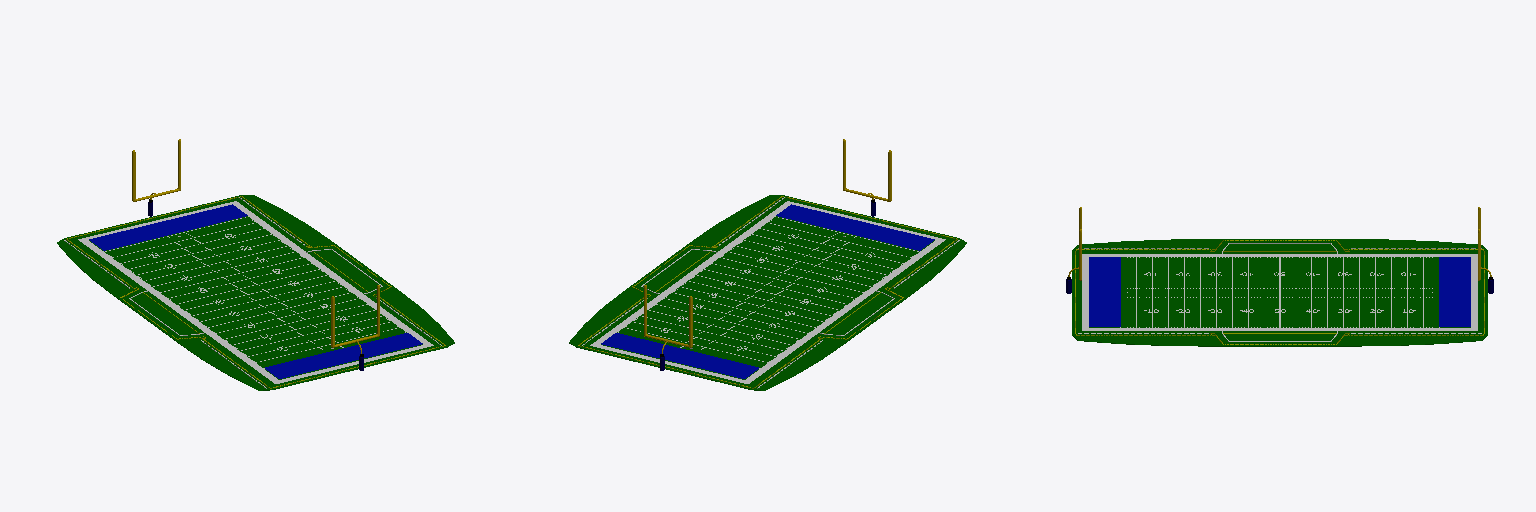
The model's file is sprblfld.obj.
The picture shows the model from 3 angles: view 1: azimuth 30°, elevation 25°; view 2: azimuth 150°, elevation 25°; view 3: azimuth 270°, elevation 25°; orthographic projection.
Visible parts, largest first — view 1: Plane.025_Plane.020, Plane.021_Plane.017, Plane.022_Plane.018, Plane.034_Plane.030, Cube.001; view 2: Plane.025_Plane.020, Plane.021_Plane.017, Plane.022_Plane.018, Plane.034_Plane.030, Cube.001; view 3: Plane.025_Plane.020, Plane.021_Plane.017, Plane.022_Plane.018, Plane.034_Plane.030.
Part boxes in pixels (left/top/right/bottom): Plane.025_Plane.020: left=57, top=195, right=454, bottom=390; Plane.021_Plane.017: left=89, top=204, right=422, bottom=378; Plane.022_Plane.018: left=78, top=201, right=433, bottom=383; Plane.034_Plane.030: left=105, top=216, right=400, bottom=368; Cube.001: left=132, top=139, right=379, bottom=347; Plane.025_Plane.020: left=569, top=195, right=966, bottom=390; Plane.021_Plane.017: left=601, top=204, right=934, bottom=378; Plane.022_Plane.018: left=590, top=201, right=945, bottom=383; Plane.034_Plane.030: left=623, top=216, right=918, bottom=368; Cube.001: left=644, top=139, right=891, bottom=347; Plane.025_Plane.020: left=1072, top=239, right=1487, bottom=346; Plane.021_Plane.017: left=1089, top=257, right=1470, bottom=326; Plane.022_Plane.018: left=1082, top=254, right=1477, bottom=330; Plane.034_Plane.030: left=1120, top=257, right=1439, bottom=328.
Bounding box in the file's own units: 6.12 × 2.04 × 10.3.